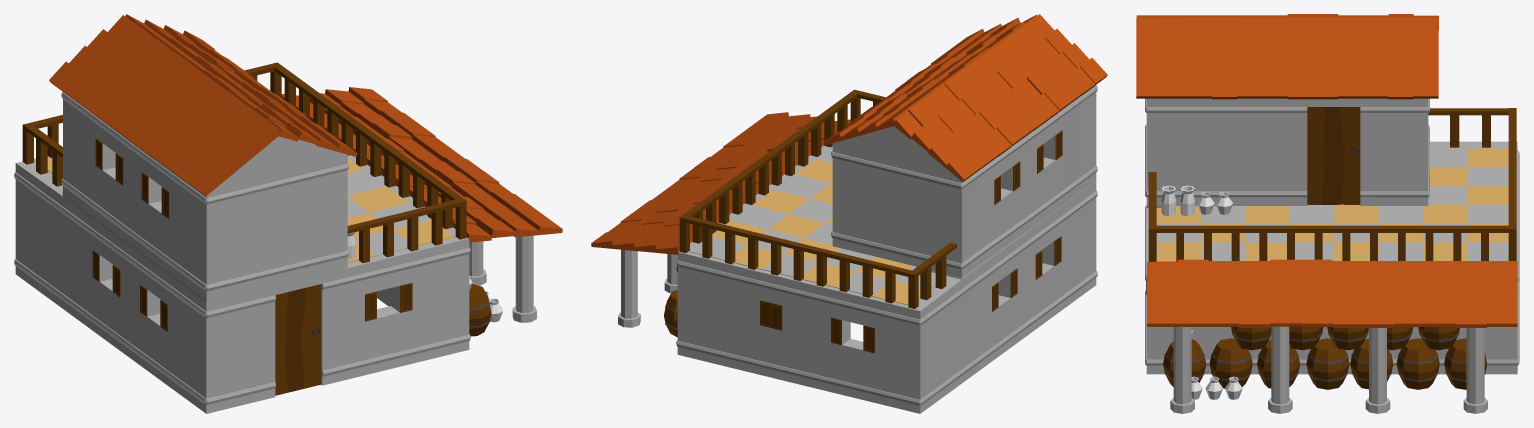
Rendered from House 2.fbx.
3 views of the same model, side by side, from view 1: azimuth 30°, elevation 25°; view 2: azimuth 150°, elevation 25°; view 3: azimuth 270°, elevation 25° (orthographic). The views are drawn at different scales.
Parts seen in each view (by area): view 1: railing; view 2: railing; view 3: railing.
Boxes of the visible parts, x1,y1,x2,y2 form: railing: (14, 14, 562, 413); railing: (591, 14, 1107, 413); railing: (1136, 14, 1519, 413).
Size of the model in its own units: 1026 by 740 by 963.
